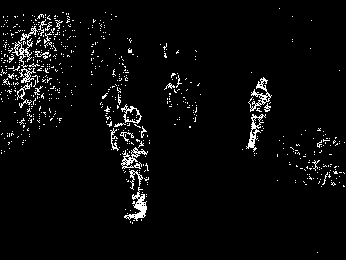person: (109, 106, 151, 222), (247, 76, 271, 153)
